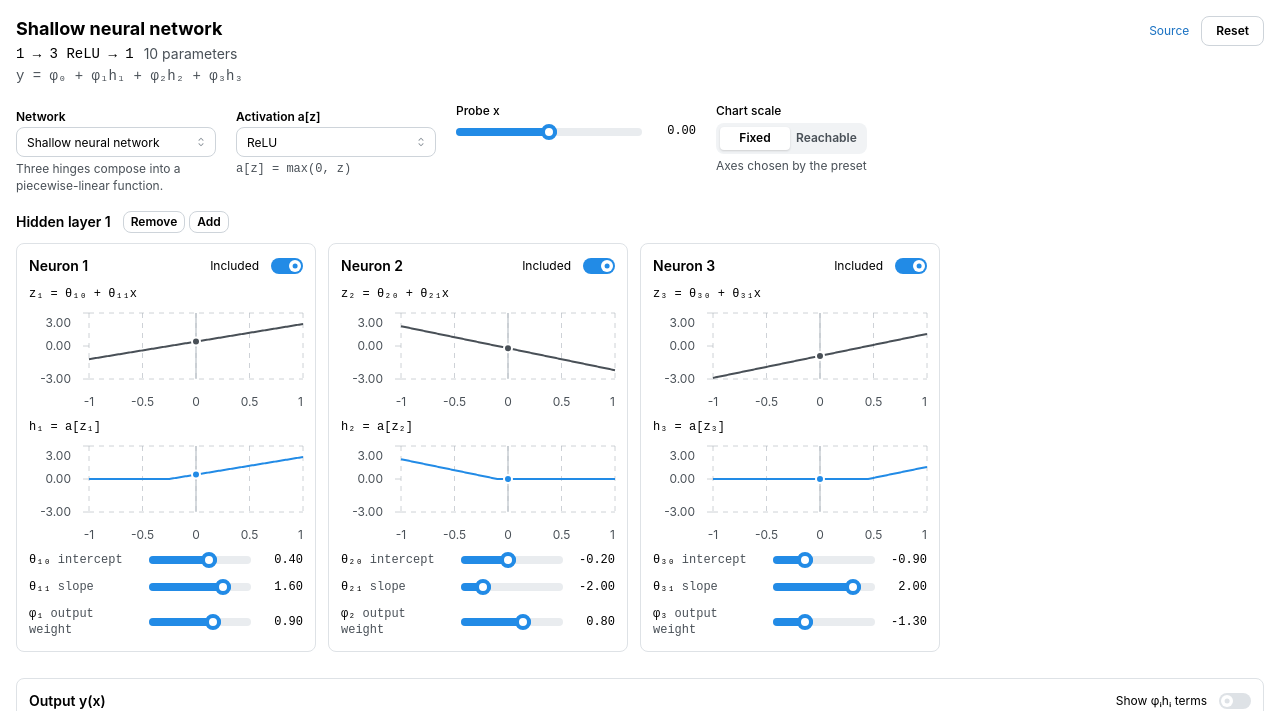
Test: a deeper preset renders a strip per layer with layer-indexed symbols
Click the dropdown labelled "Network". click: point(116, 142)
box: [16, 128, 216, 158]
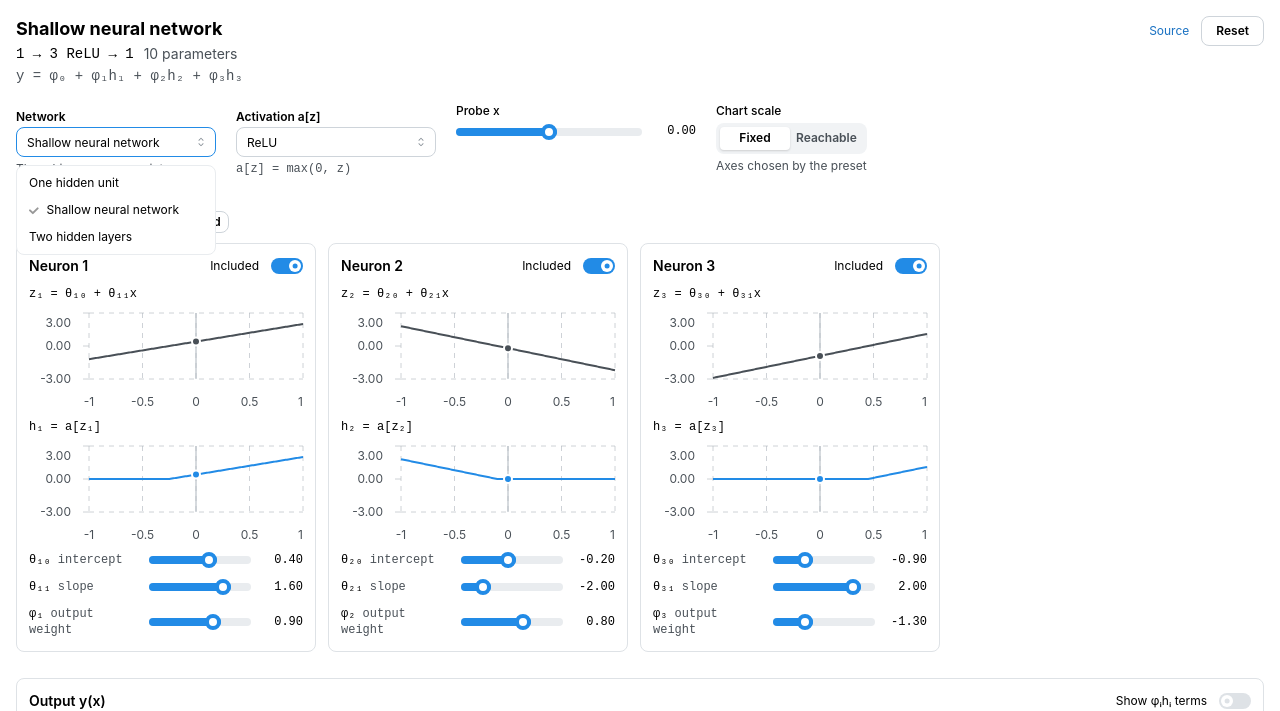
Click the option "Two hidden layers". click: point(81, 236)
box: [29, 229, 132, 244]
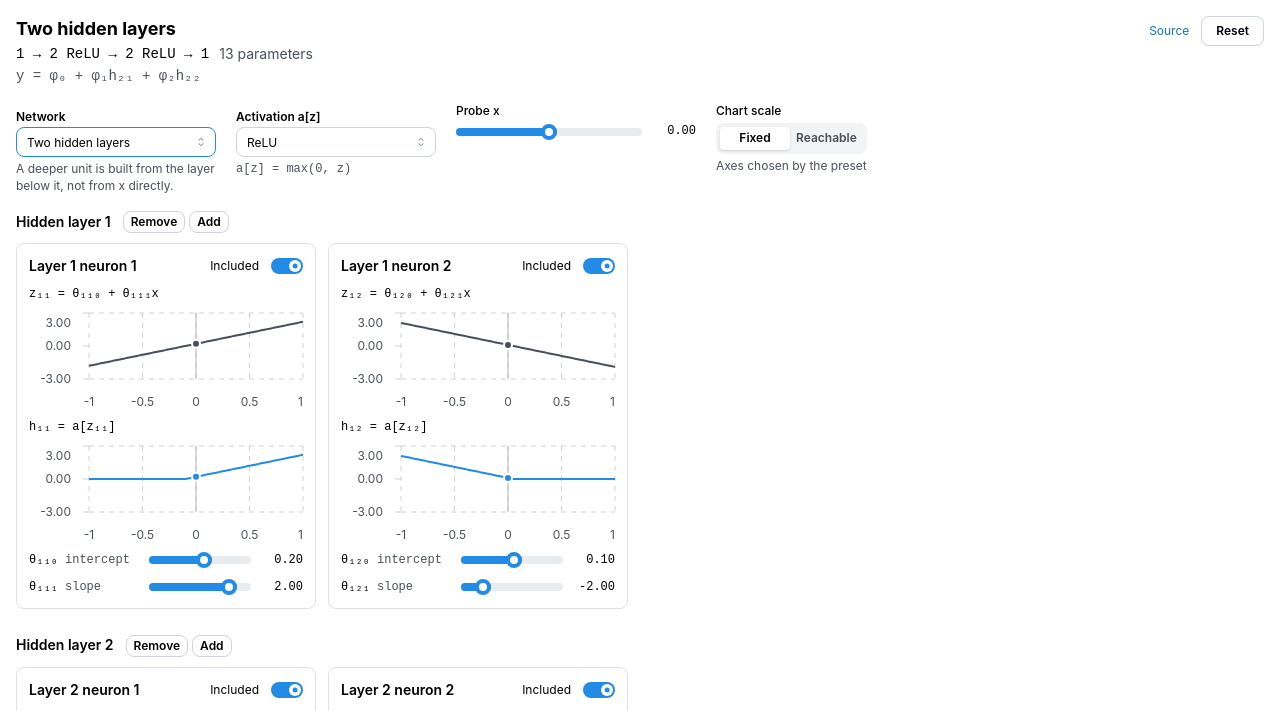
expect the text "1 → 2 ReLU → 2 ReLU → 1" is shown: met, box [16, 44, 209, 64]
expect the text "y = φ₀ + φ₁h₂₁ + φ₂h₂₂" is shown: met, box [16, 68, 201, 84]
